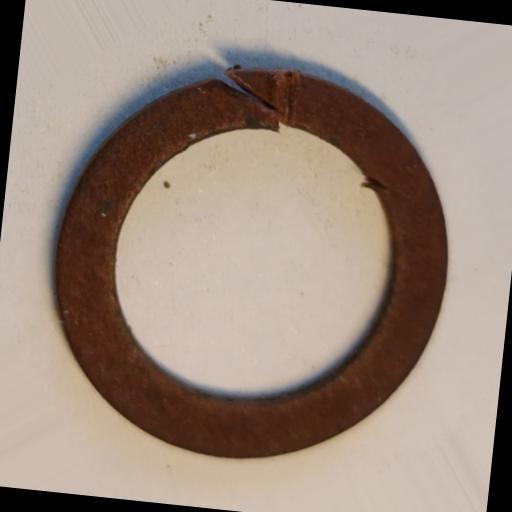defect: (208, 63, 298, 135)
